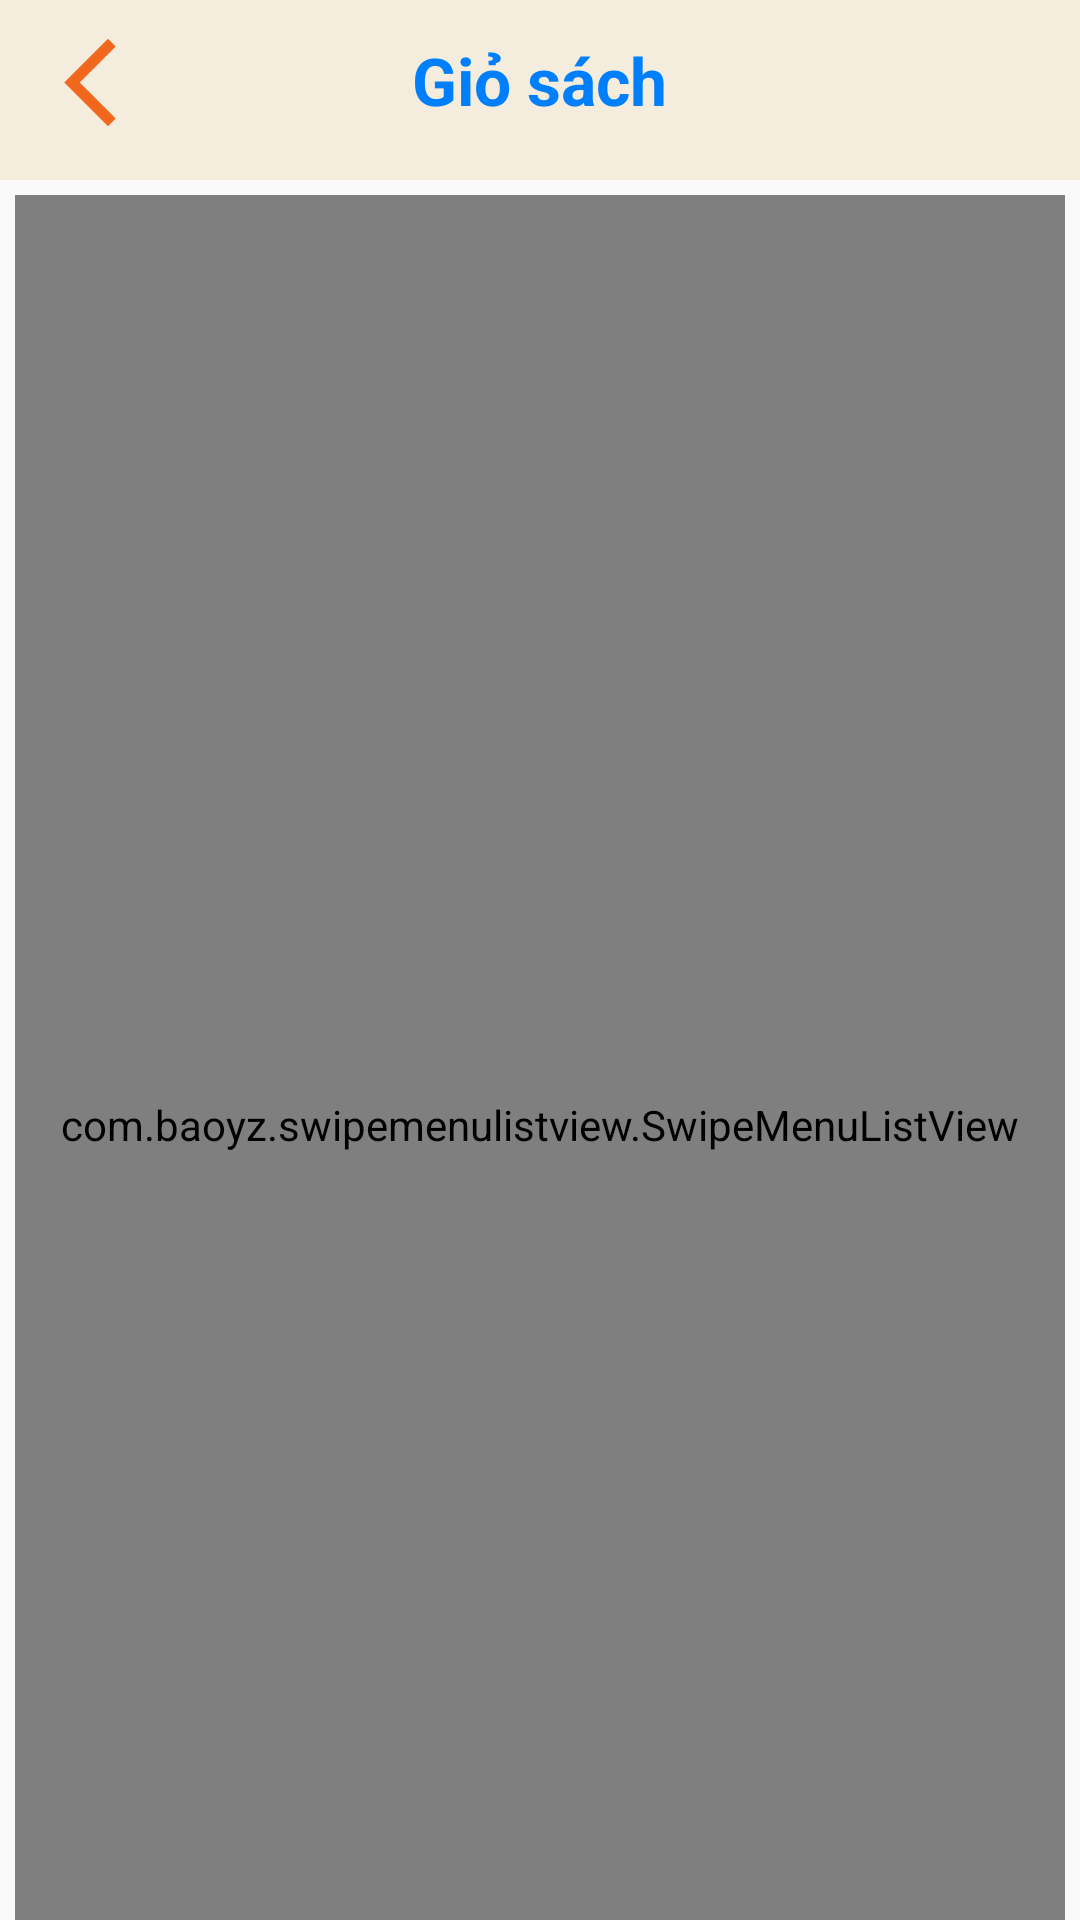

Screen size 1080x1920. Icon name, then its center in pixels as (x,y):
arrow back: (90,82)
